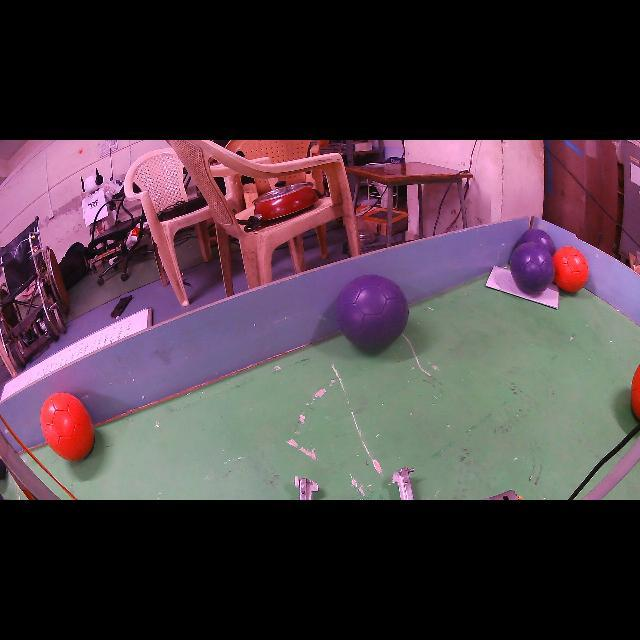P: (336, 275, 409, 349), (510, 242, 555, 294), (519, 229, 556, 256)
R: (40, 392, 95, 460), (552, 246, 589, 292), (631, 365, 640, 420)
